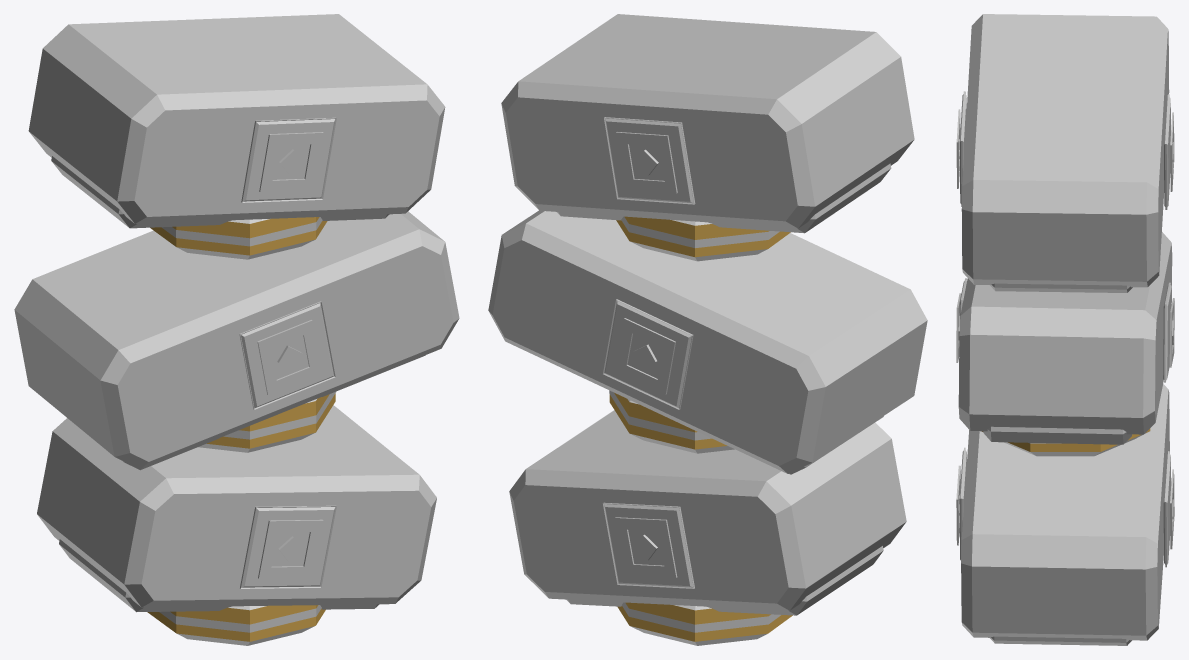
The model's file is wand_motion_21.obj.
3 renders of one model, left to right at view 1: azimuth 30°, elevation 25°; view 2: azimuth 150°, elevation 25°; view 3: azimuth 270°, elevation 25°, orthographic. The views are drawn at different scales.
Parts seen in each view (by area): view 1: chamfered_seal_tablet_1, chamfered_seal_tablet_2, chamfered_seal_tablet_0, inset_rune_socket_3, inset_rune_socket_1, inset_rune_socket_5, tablet_spacer_2, tablet_spacer_0, tablet_spacer_1, seal_shadow_base_2, seal_shadow_base_0, tablet_spacer_dark_seam_0 (+2 smaller); view 2: chamfered_seal_tablet_1, chamfered_seal_tablet_2, chamfered_seal_tablet_0, inset_rune_socket_4, inset_rune_socket_0, inset_rune_socket_2, tablet_spacer_2, tablet_spacer_0, tablet_spacer_1, seal_shadow_base_0, seal_shadow_base_2, tablet_spacer_dark_seam_0 (+2 smaller); view 3: chamfered_seal_tablet_2, chamfered_seal_tablet_0, chamfered_seal_tablet_1, seal_shadow_base_1, tablet_spacer_1, seal_shadow_base_2, seal_shadow_base_0, inset_rune_socket_0, inset_rune_socket_4, inset_rune_socket_2, inset_rune_socket_5, inset_rune_socket_1.
Boxes of the visible parts, x1,y1,x2,y2 form: chamfered_seal_tablet_1: [14, 211, 459, 469]; chamfered_seal_tablet_2: [28, 14, 445, 223]; chamfered_seal_tablet_0: [37, 405, 436, 607]; inset_rune_socket_3: [239, 301, 335, 409]; inset_rune_socket_1: [240, 505, 336, 588]; inset_rune_socket_5: [241, 117, 336, 202]; tablet_spacer_2: [150, 217, 327, 259]; tablet_spacer_0: [147, 605, 325, 645]; tablet_spacer_1: [198, 393, 335, 452]; seal_shadow_base_2: [51, 156, 389, 228]; seal_shadow_base_0: [59, 539, 379, 612]; tablet_spacer_dark_seam_0: [159, 605, 321, 632]; chamfered_seal_tablet_1: [488, 210, 927, 473]; chamfered_seal_tablet_2: [501, 14, 914, 228]; chamfered_seal_tablet_0: [509, 410, 906, 610]; inset_rune_socket_4: [604, 117, 695, 204]; inset_rune_socket_0: [603, 502, 694, 588]; inset_rune_socket_2: [603, 299, 693, 409]; tablet_spacer_2: [616, 216, 790, 261]; tablet_spacer_0: [617, 602, 792, 645]; tablet_spacer_1: [609, 392, 734, 453]; seal_shadow_base_0: [566, 546, 883, 615]; seal_shadow_base_2: [557, 163, 891, 233]; tablet_spacer_dark_seam_0: [621, 602, 780, 632]; chamfered_seal_tablet_2: [961, 14, 1169, 287]; chamfered_seal_tablet_0: [961, 384, 1169, 640]; chamfered_seal_tablet_1: [958, 232, 1172, 434]; seal_shadow_base_1: [983, 426, 1132, 444]; tablet_spacer_1: [981, 428, 1150, 456]; seal_shadow_base_2: [990, 283, 1132, 292]; seal_shadow_base_0: [990, 636, 1131, 645]; inset_rune_socket_0: [1163, 451, 1171, 567]; inset_rune_socket_4: [1164, 94, 1170, 209]; inset_rune_socket_2: [1163, 282, 1171, 382]; inset_rune_socket_5: [959, 91, 966, 206]; inset_rune_socket_1: [959, 447, 966, 560].
Bounding box in the file's own units: 0.1996 × 0.3099 × 0.1147.
